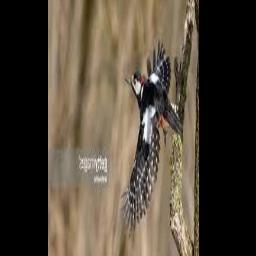Woodpecker: (120, 39, 182, 240)
